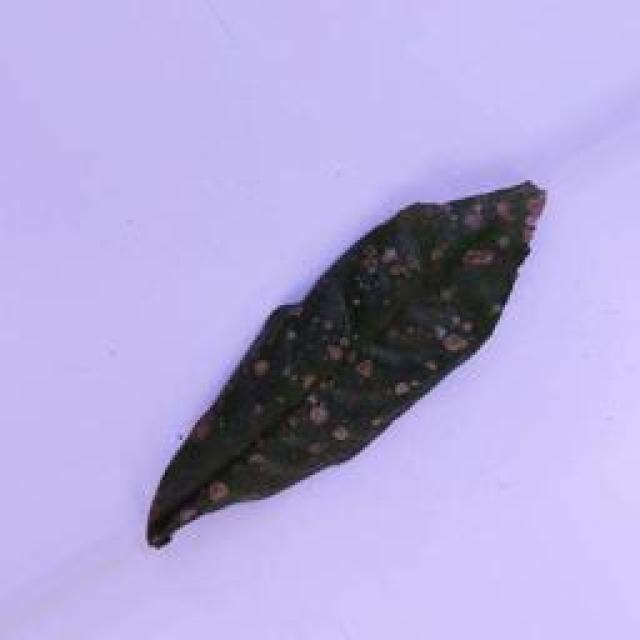Algal Leaf Spot: (131, 172, 547, 556)
